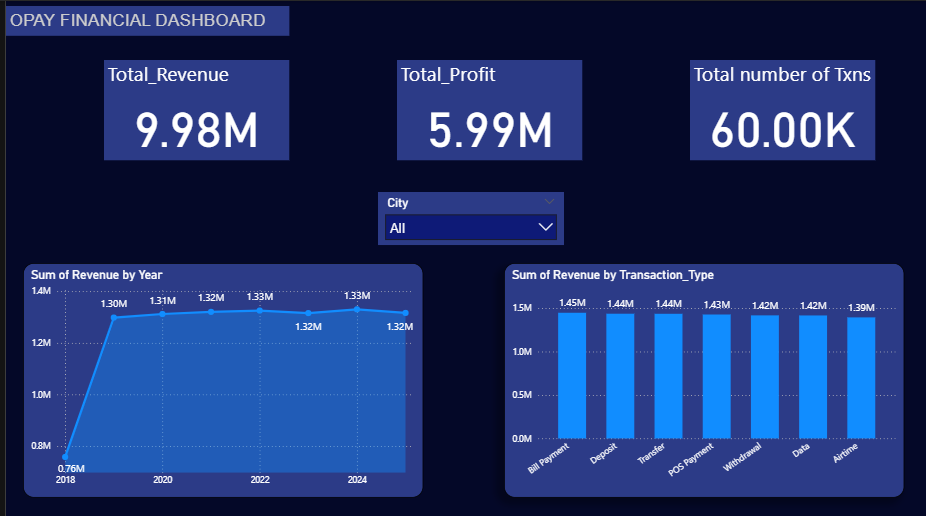

Layout of this report page (visuals, bound fields, positions):
{"tool":"powerbi","page":{"name":"Business overview","canvas":[1280,720],"ordinal":0},"visuals":[{"type":"card","title":"Total number of Txns","fields":{"Values":["Count(opay_analysis dashboard.Transaction_ID)"]},"box":[941.4,81.7,254.6,137.6],"z":0},{"type":"card","title":"Total_Revenue","fields":{"Values":["Sum(opay_analysis dashboard.Revenue)"]},"box":[134.9,81.7,254.6,137.6],"z":1000},{"type":"card","title":"Total_Profit","fields":{"Values":["Sum(opay_analysis dashboard.Profit)"]},"box":[538.2,81.7,254.6,137.6],"z":2000},{"type":"lineChart","fields":{"Category":["opay_analysis dashboard.Year"],"Y":["Sum(opay_analysis dashboard.Revenue)"]},"box":[23.4,360.6,550.5,323.4],"z":3000},{"type":"clusteredColumnChart","fields":{"Category":["opay_analysis dashboard.Transaction_Type"],"Y":["Sum(opay_analysis dashboard.Revenue)"]},"box":[685.4,360.6,550.5,323.4],"z":4000},{"type":"slicer","fields":{"Values":["opay_analysis dashboard.City"]},"box":[512,262.9,256,72.9],"z":5000},{"type":"textbox","box":[0,6.9,389.5,41.3],"z":6000}]}

Visuals, with their boxes in screenshot pixels (x1, y1, x2, y2), scaled from the page's 1280x720 canvas onto the 926x516 screenshot:
"Total number of Txns" card: {"left": 681, "top": 59, "right": 865, "bottom": 157}
"Total_Revenue" card: {"left": 98, "top": 59, "right": 282, "bottom": 157}
"Total_Profit" card: {"left": 389, "top": 59, "right": 574, "bottom": 157}
lineChart - opay_analysis dashboard.Year x Sum(opay_analysis dashboard.Revenue): {"left": 17, "top": 258, "right": 415, "bottom": 490}
clusteredColumnChart - opay_analysis dashboard.Transaction_Type x Sum(opay_analysis dashboard.Revenue): {"left": 496, "top": 258, "right": 894, "bottom": 490}
slicer - opay_analysis dashboard.City: {"left": 370, "top": 188, "right": 556, "bottom": 241}
textbox: {"left": 0, "top": 5, "right": 282, "bottom": 35}
